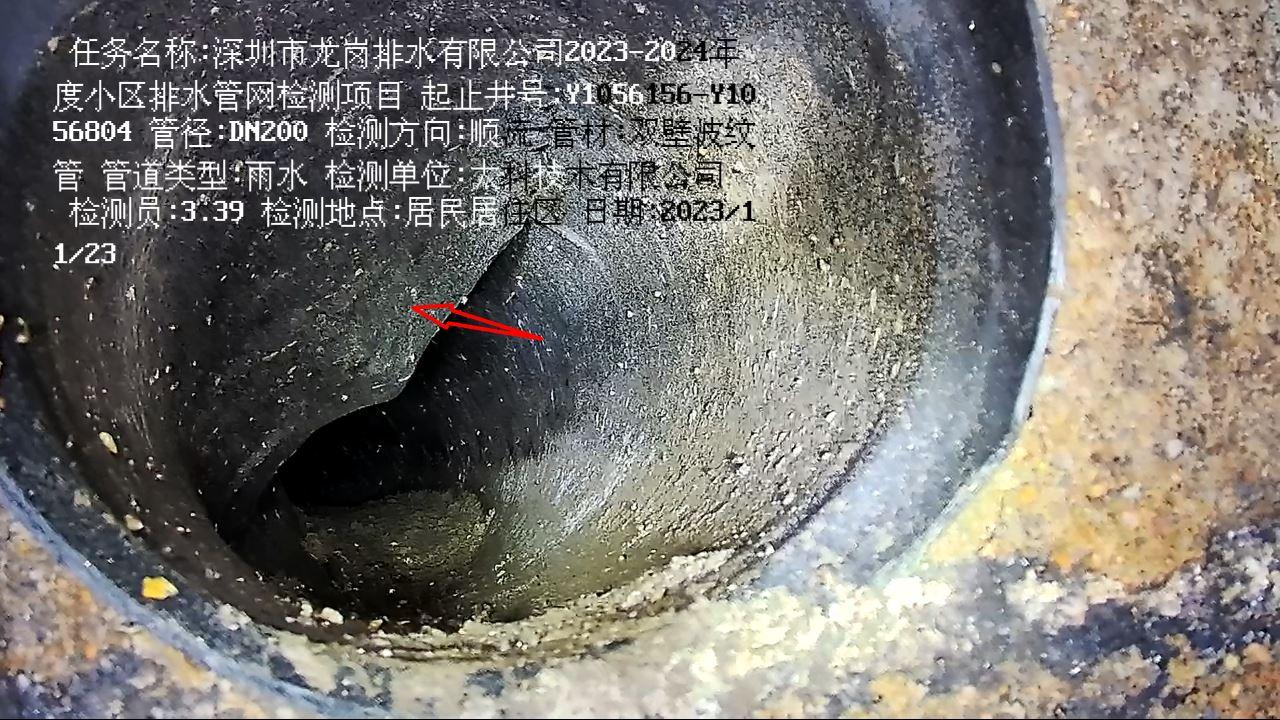BX: (145, 199, 572, 509)
